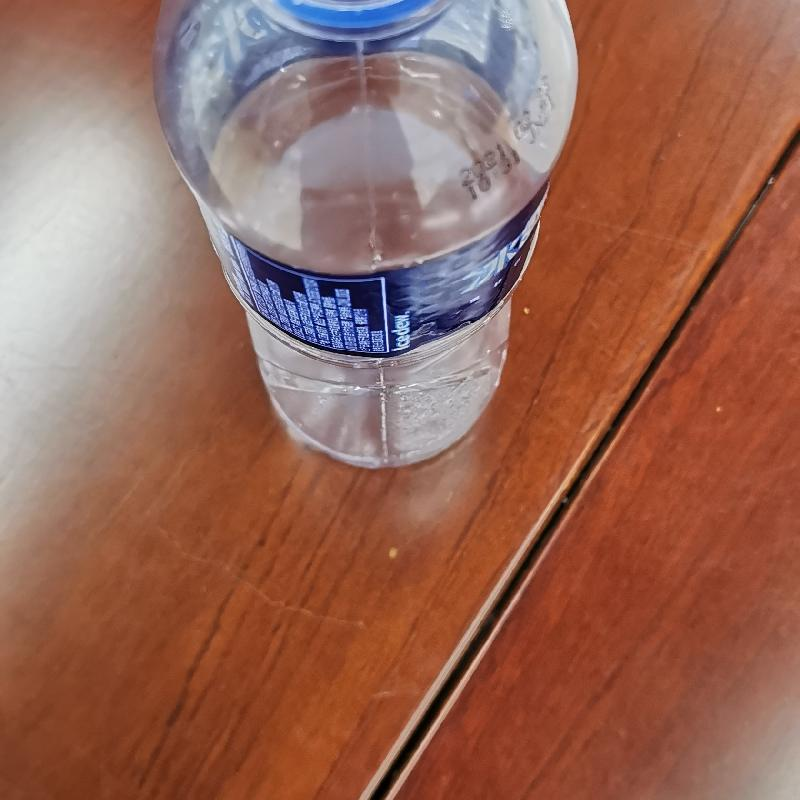bottles: (143, 0, 585, 477)
